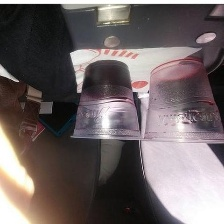glass: (142, 53, 224, 149), (66, 56, 144, 144)
